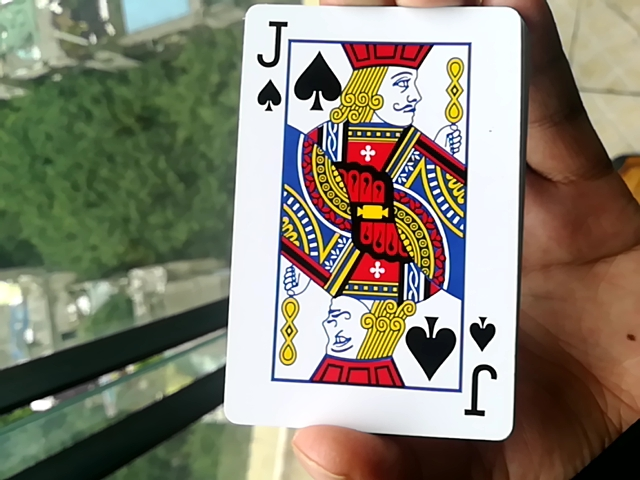ht j: (219, 0, 517, 439)
